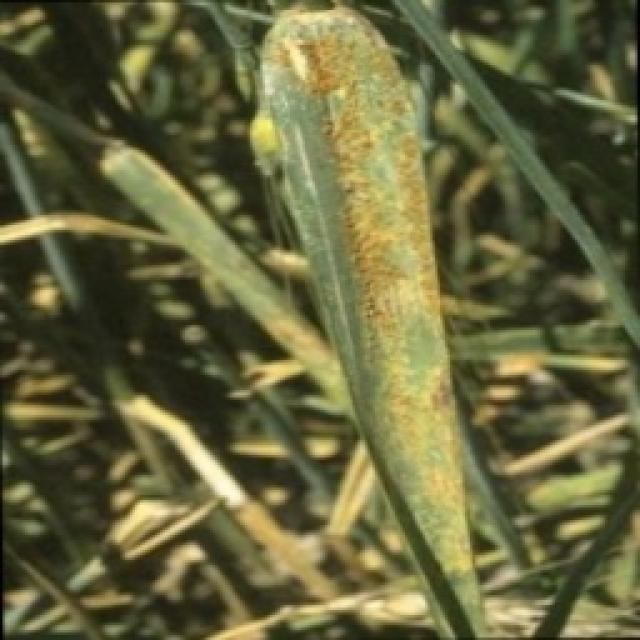Elderberry_rust: (220, 12, 560, 640)
